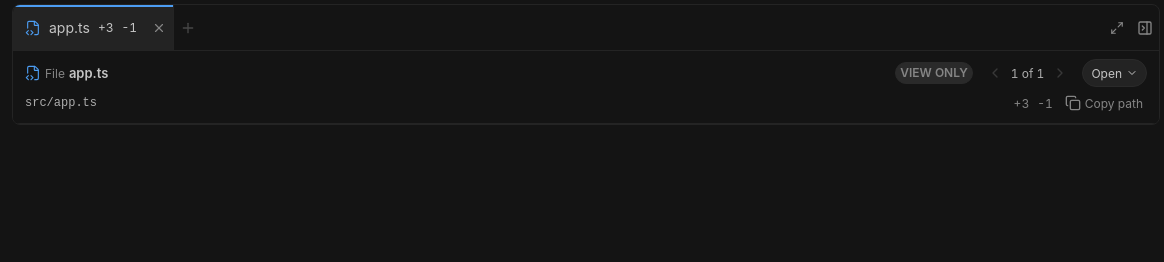
Test: Agent artifact file chips › closes an Agent artifact without adding a close control to Preview
This screenshot has width=1164, height=262.
Click the button named "Close app.ts".
click(159, 28)  # box [145, 5, 173, 50]
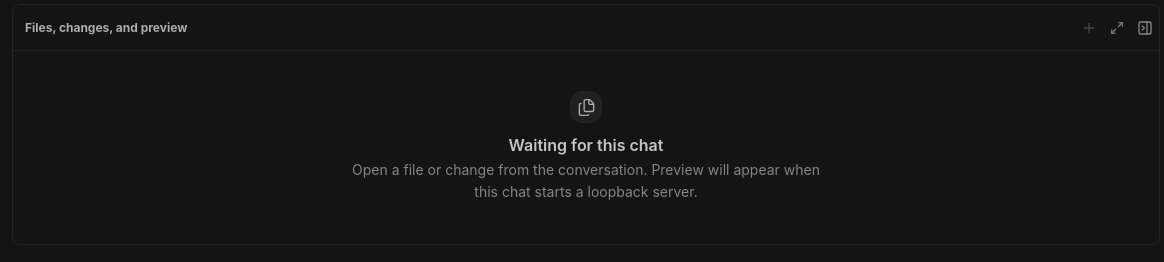
Expected: the tab "app.ts" is gone
